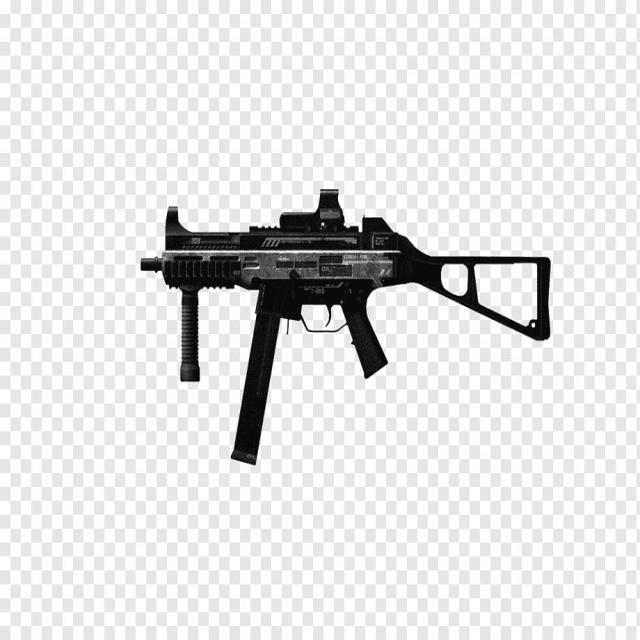Gun: (142, 162, 557, 497)
